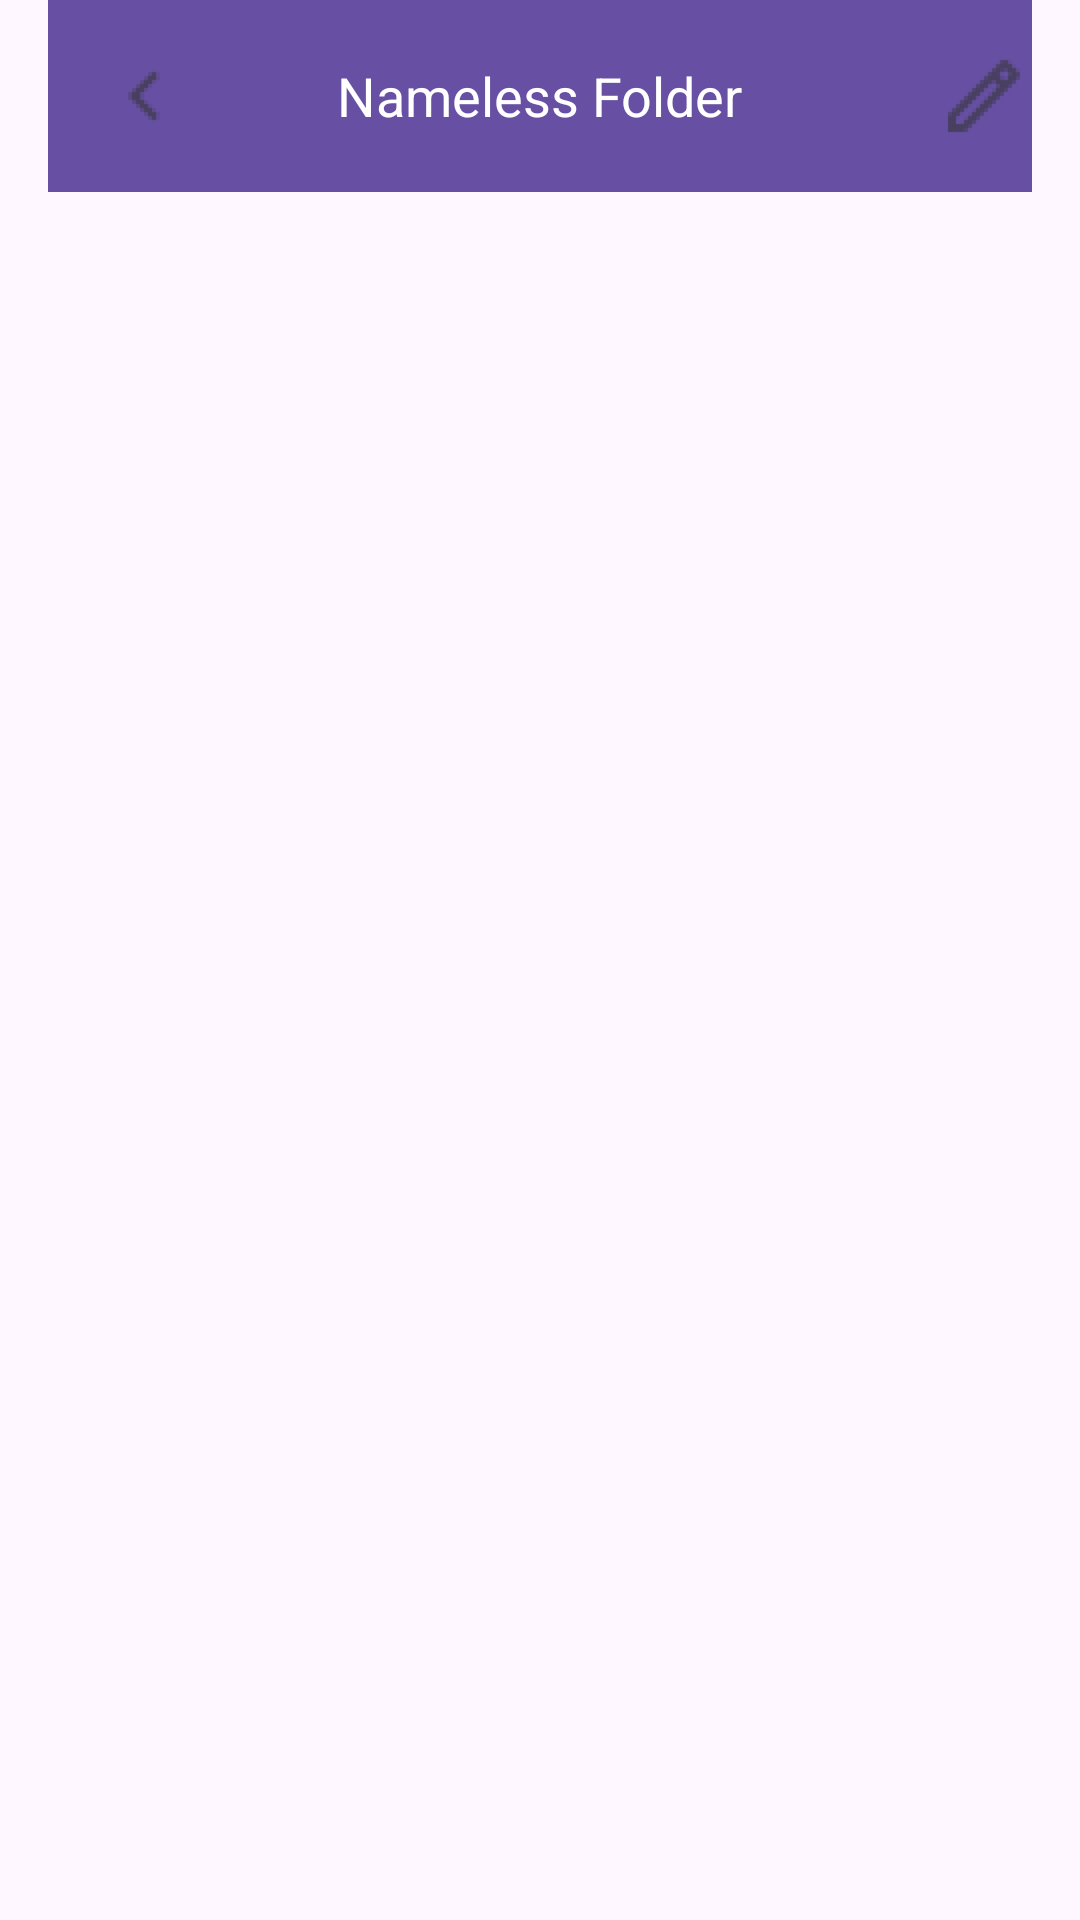

Screen size 1080×1920. Icon name, then its center in pixels as [x,y]:
Edit Folder: [984,96]
Go Back: [142,96]
